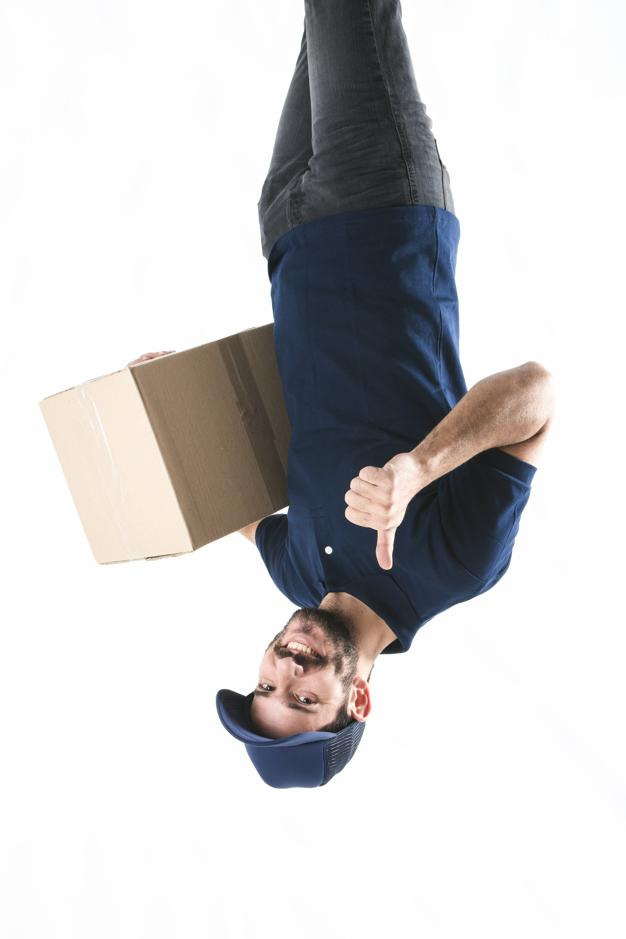thumbsdown: (344, 466, 399, 571)
